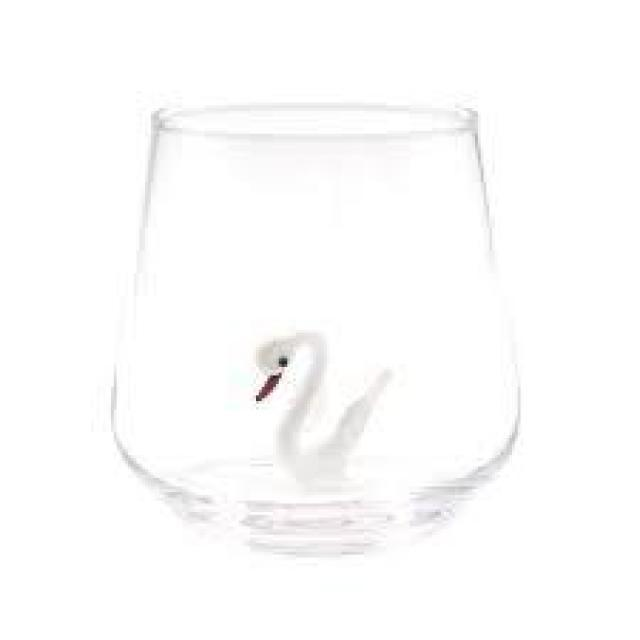Glass: (107, 98, 524, 553)
